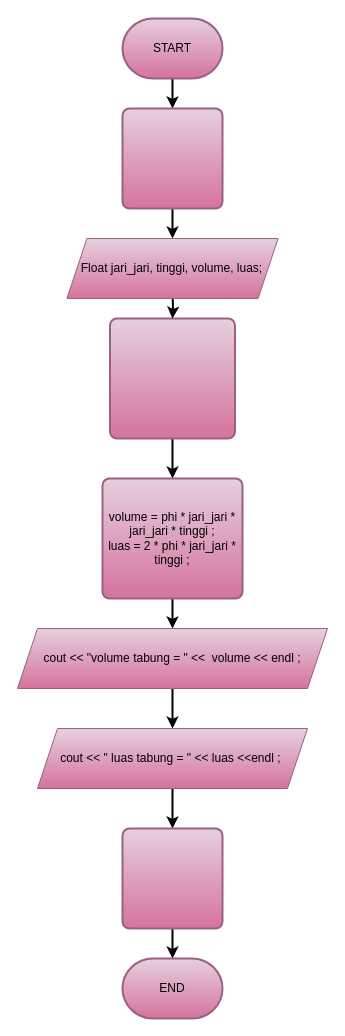
Image size: 345x1036. Some labels were removed from this diagram. The shapes that lost their labels are listed below. From the top down, each one's box as (x1, y1, x2, y2) in pixels, then its label:
(121, 107, 223, 209): # define phi = 3.14152965
(108, 317, 236, 439): jari_jari = 5.0; tinggi = 7;
(121, 827, 223, 929): getchar();
